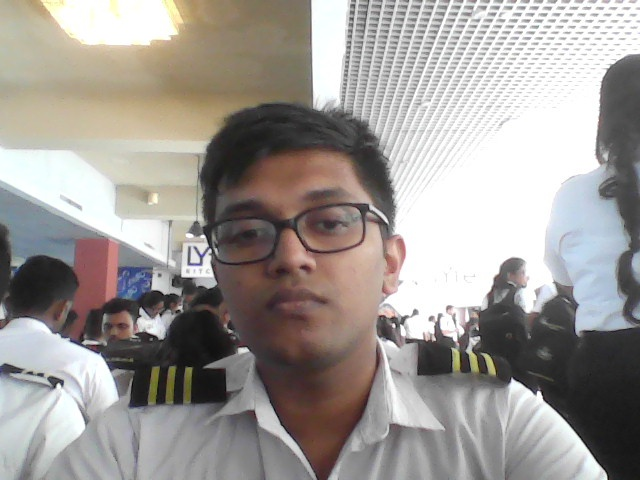upper level: (200, 97, 405, 371)
